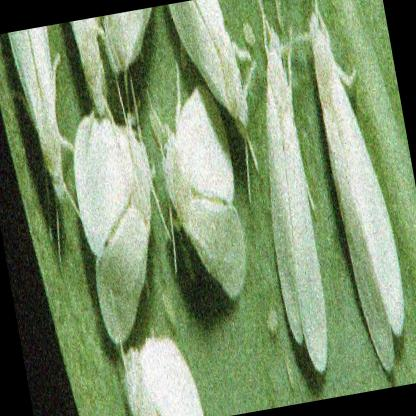whitefly: (306, 6, 406, 379), (263, 20, 326, 372), (74, 107, 153, 336), (163, 86, 245, 305), (167, 0, 251, 137)
